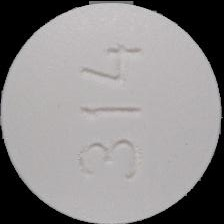68151-0098: (0, 0, 224, 224)
